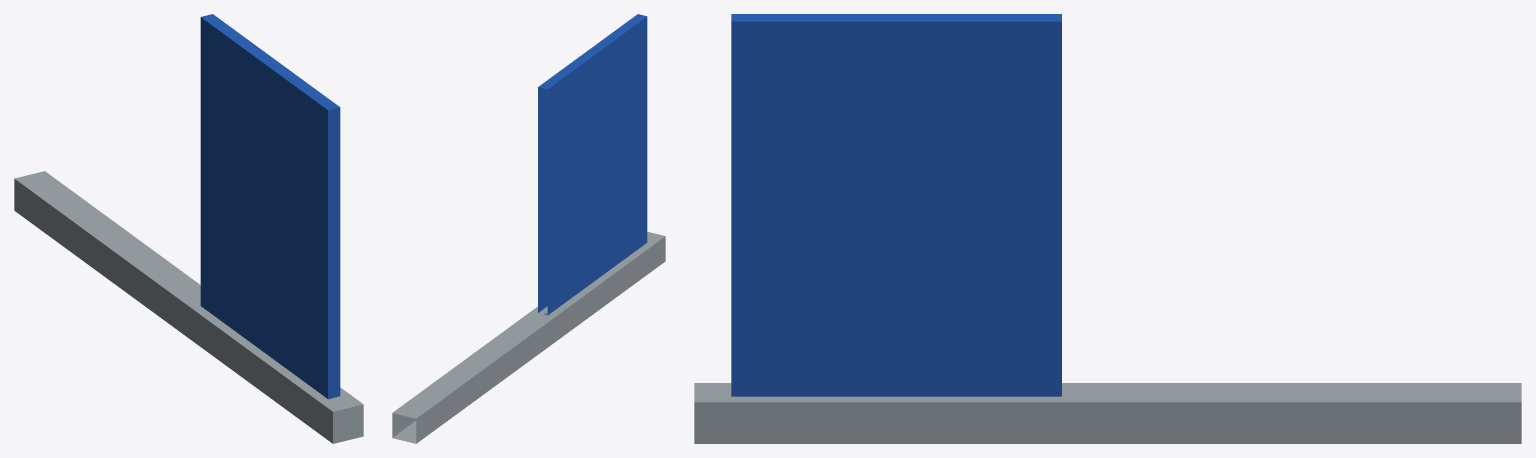
The picture shows the model from 3 angles, left to right: view 1: azimuth 30°, elevation 25°; view 2: azimuth 150°, elevation 25°; view 3: azimuth 270°, elevation 25°; orthographic projection. The views are drawn at different scales.
Parts seen in each view (by area): view 1: object_owned_land; view 2: object_owned_land; view 3: object_owned_land.
Boxes of the visible parts, x1=… form: object_owned_land: x1=14, y1=14, x2=363, y2=443; object_owned_land: x1=392, y1=14, x2=665, y2=443; object_owned_land: x1=694, y1=14, x2=1521, y2=443.
Size of the model in its own units: 0.5 by 5 by 9.
